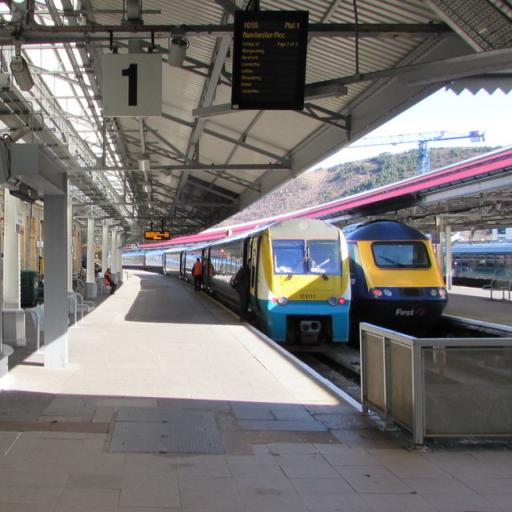platform_edge: (205, 311, 357, 408)
